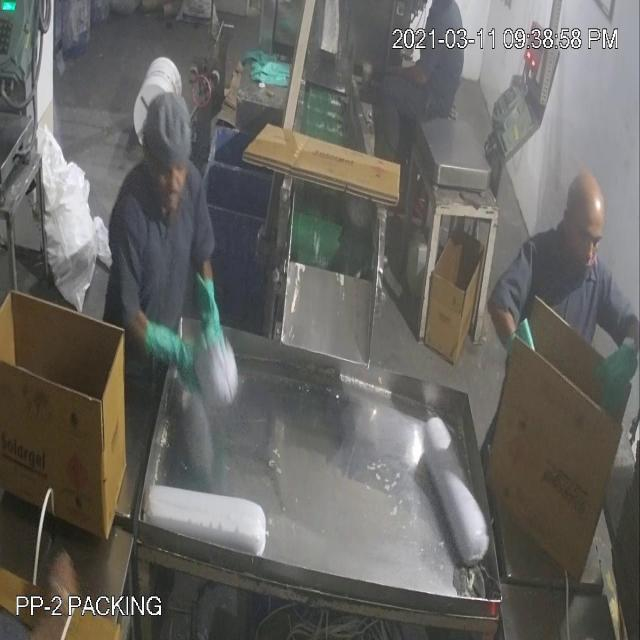Gloves: (589, 325, 640, 415)
